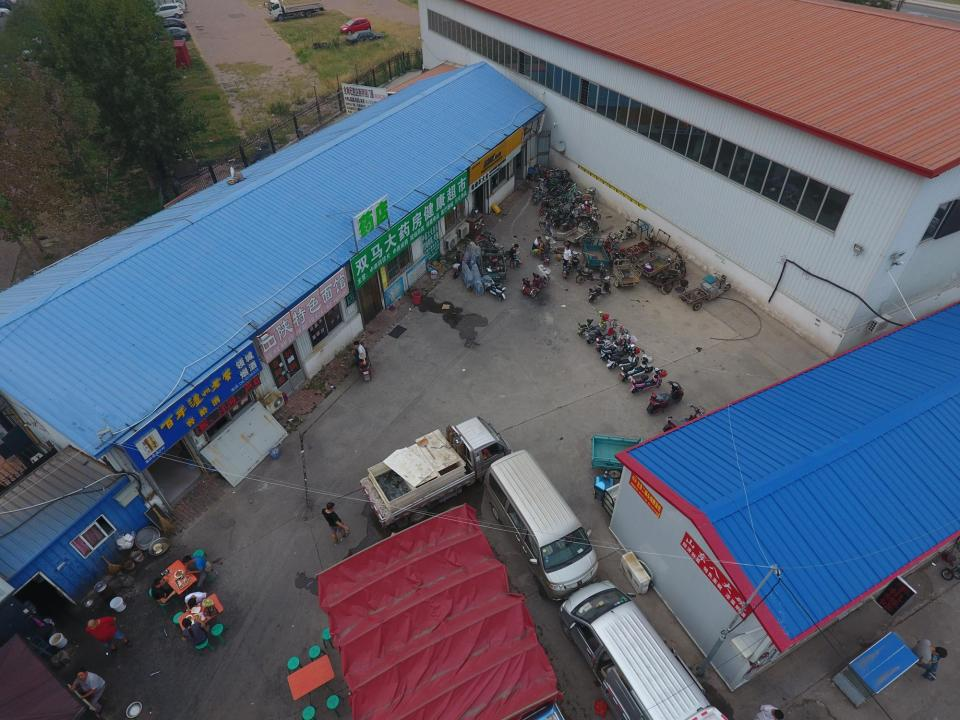car: (339, 16, 371, 38), (346, 30, 386, 47), (151, 26, 191, 43), (148, 17, 187, 34), (149, 4, 183, 22)
truck: (364, 416, 512, 529), (264, 0, 326, 22)
van: (566, 583, 702, 720), (484, 449, 600, 602)
